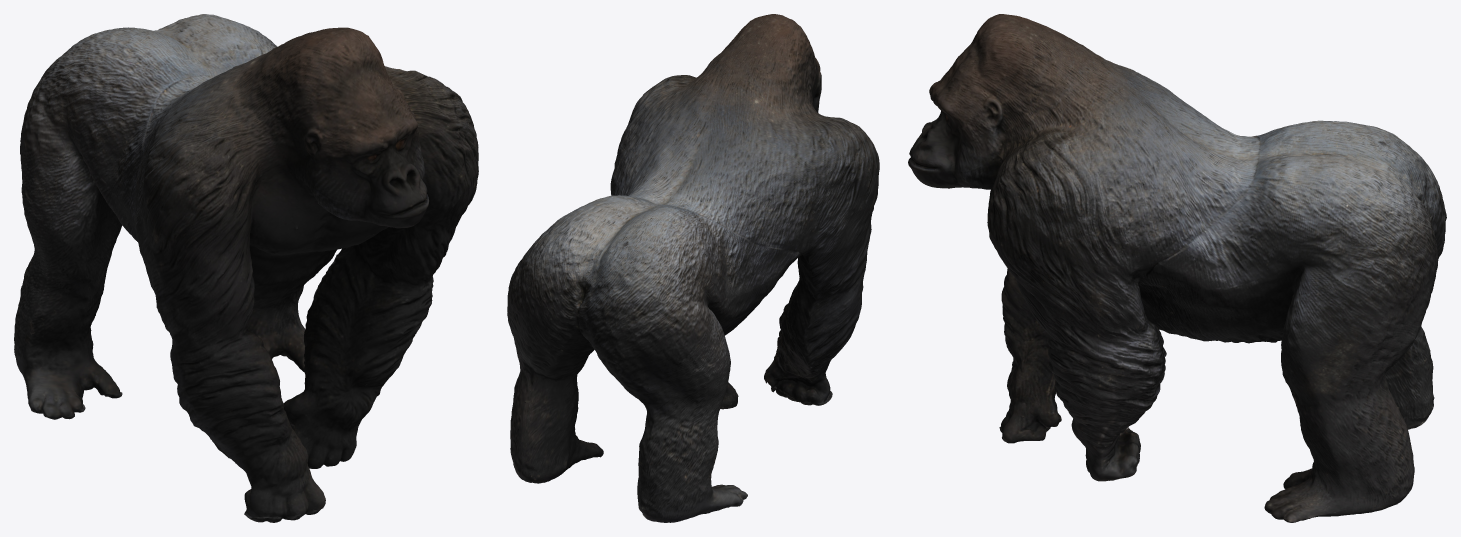
The model's file is silverback_gorilla_figurine.glb.
3 views of the same model, side by side, from view 1: azimuth 30°, elevation 25°; view 2: azimuth 150°, elevation 25°; view 3: azimuth 270°, elevation 25° (orthographic). The views are drawn at different scales.
Visible parts, largest first — view 1: Object_2, Object_3; view 2: Object_3, Object_2; view 3: Object_2, Object_3.
Part boxes in pixels (left/top/right/bottom): Object_2: left=35, top=14, right=478, bottom=522; Object_3: left=14, top=14, right=362, bottom=431; Object_3: left=507, top=76, right=851, bottom=522; Object_2: left=508, top=14, right=879, bottom=487; Object_2: left=908, top=14, right=1446, bottom=481; Object_3: left=1096, top=57, right=1445, bottom=522.
Bounding box in the file's own units: 0.1055 × 0.1539 × 0.1713.
Materials: 1 (1 with a texture image).
